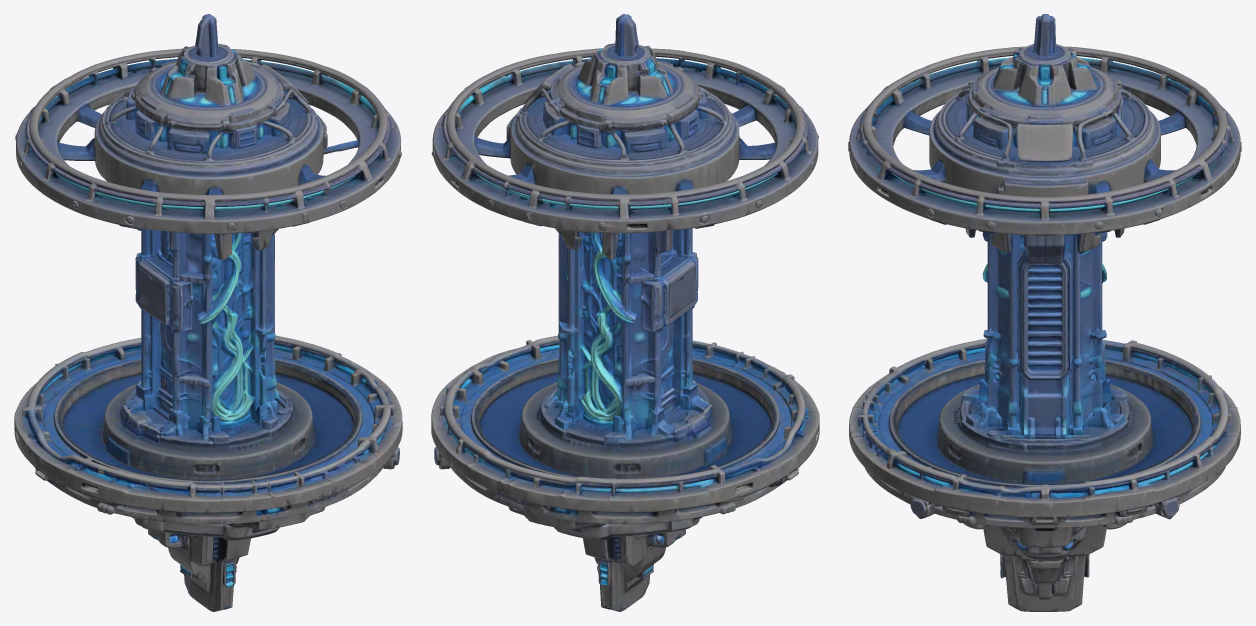
The model's file is energy-pillar.glb.
3 renders of one model, left to right at view 1: azimuth 30°, elevation 25°; view 2: azimuth 150°, elevation 25°; view 3: azimuth 270°, elevation 25°, orthographic.
Visible parts, largest first — view 1: tripo_node_b8d4fbfc-edce-4b70-b63d-ad94867b58cc; view 2: tripo_node_b8d4fbfc-edce-4b70-b63d-ad94867b58cc; view 3: tripo_node_b8d4fbfc-edce-4b70-b63d-ad94867b58cc.
Part boxes in pixels (<box>): tripo_node_b8d4fbfc-edce-4b70-b63d-ad94867b58cc: <box>14,14,402,611</box>; tripo_node_b8d4fbfc-edce-4b70-b63d-ad94867b58cc: <box>431,14,819,611</box>; tripo_node_b8d4fbfc-edce-4b70-b63d-ad94867b58cc: <box>848,14,1241,611</box>.
Bounding box in the file's own units: 0.5875 × 0.9791 × 0.5875.
Materials: 1 (1 with a texture image).
